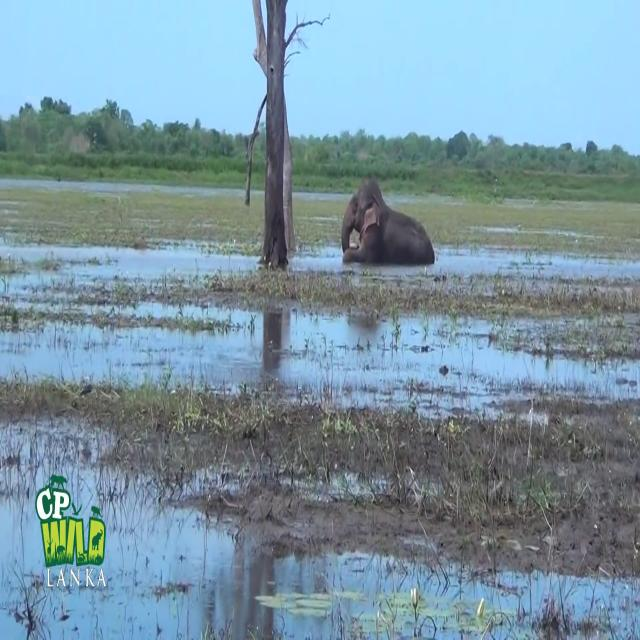Elephant: (341, 177, 435, 266)
